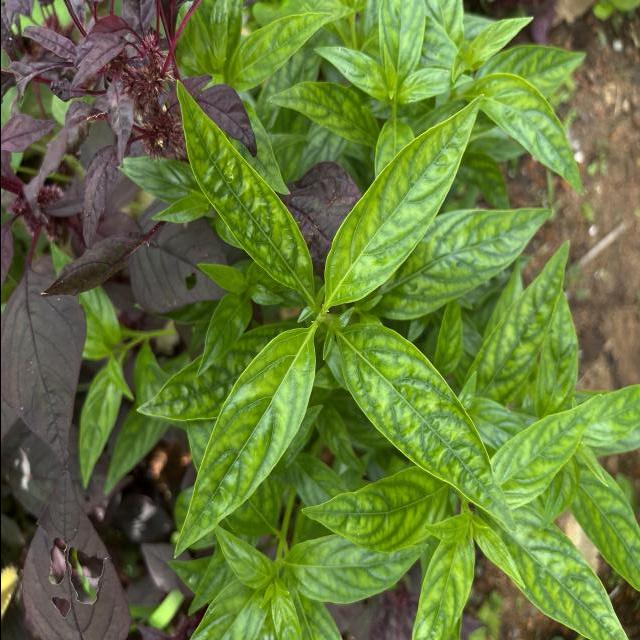Andrographis paniculata: (329, 322, 521, 536), (321, 88, 486, 308), (168, 326, 318, 563), (172, 76, 316, 308), (382, 206, 553, 322), (464, 238, 574, 404), (494, 504, 627, 640), (454, 73, 584, 198), (485, 390, 605, 509), (300, 464, 450, 556), (282, 530, 428, 604), (226, 11, 334, 92), (264, 78, 382, 150)
